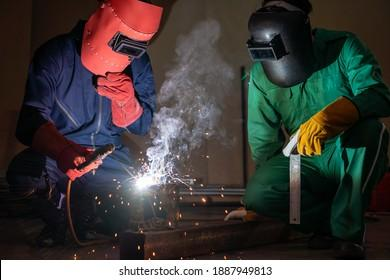gloves: (289, 95, 356, 156), (31, 120, 97, 179), (97, 71, 143, 128)
